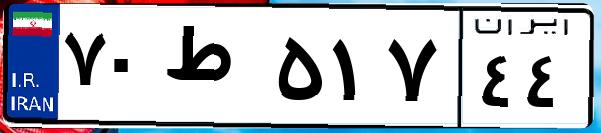0: (110, 28, 158, 98)
1: (330, 28, 385, 110)
4: (475, 38, 525, 113), (525, 38, 570, 115)
5: (270, 28, 330, 110)
7: (385, 28, 445, 110), (57, 26, 110, 100)
ط: (158, 20, 270, 120)
